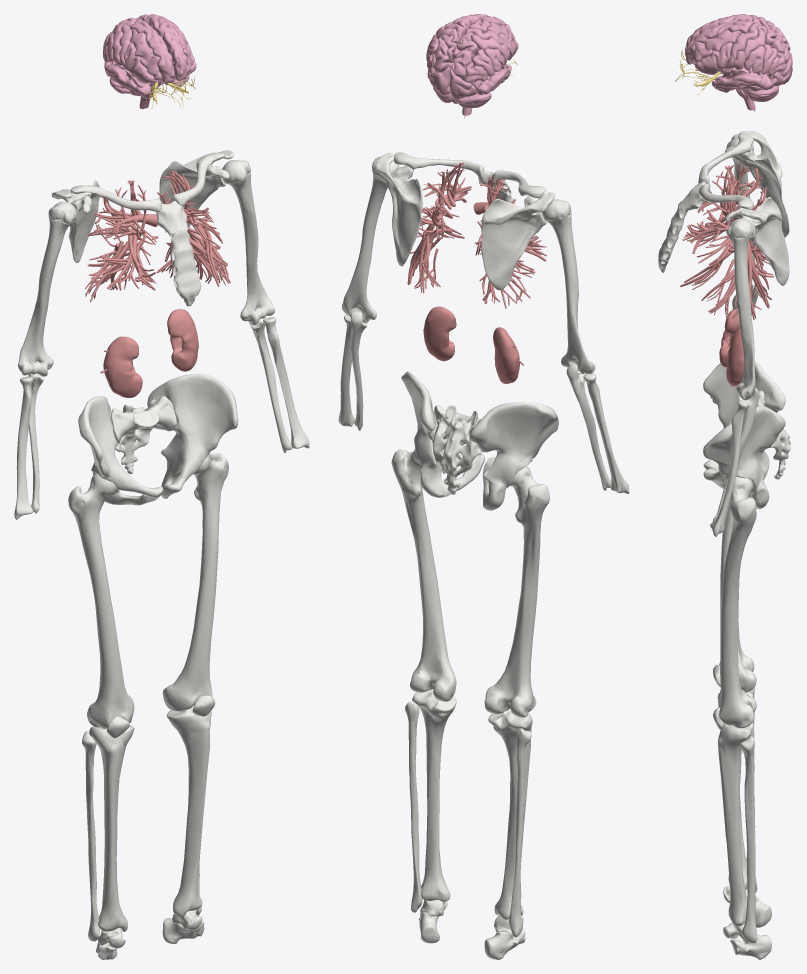
Rendered from bodyparts3d-skeleton-v1.glb.
3 renders of one model, left to right at view 1: azimuth 30°, elevation 25°; view 2: azimuth 150°, elevation 25°; view 3: azimuth 270°, elevation 25°, orthographic.
Visible parts, largest first — view 1: Femur_R, HipBone_L, Femur_L, Tibia_L, Lung_R, CerebralHemisphere_R, Tibia_R, HipBone_R, Humerus_R, Humerus_L, Lung_L, Sacrum (+14 smaller); view 2: Femur_R, Femur_L, HipBone_R, CerebralHemisphere_R, Scapula_R, Tibia_L, Lung_L, Tibia_R, HipBone_L, Humerus_R, Scapula_L, Sacrum (+13 smaller); view 3: CerebralHemisphere_L, Femur_L, Tibia_L, HipBone_L, Lung_L, Humerus_L, HipBone_R, Scapula_L, Fibula_L, Scapula_R, Lung_R, Radius_L (+14 smaller).
Boxes of the visible parts, x1=… form: Femur_R: x1=68, y1=473, x2=134, y2=728; HipBone_L: x1=147, y1=373, x2=238, y2=498; Femur_L: x1=162, y1=453, x2=228, y2=711; Tibia_L: x1=166, y1=705, x2=211, y2=917; Lung_R: x1=85, y1=180, x2=158, y2=373; CerebralHemisphere_R: x1=103, y1=17, x2=174, y2=96; Tibia_R: x1=89, y1=725, x2=134, y2=931; HipBone_R: x1=78, y1=396, x2=163, y2=505; Humerus_R: x1=18, y1=201, x2=76, y2=376; Humerus_L: x1=222, y1=160, x2=274, y2=325; Lung_L: x1=156, y1=170, x2=230, y2=286; Sacrum: x1=111, y1=396, x2=176, y2=473; Femur_R: x1=484, y1=466, x2=549, y2=717; Femur_L: x1=391, y1=449, x2=456, y2=701; HipBone_R: x1=469, y1=402, x2=558, y2=510; CerebralHemisphere_R: x1=449, y1=16, x2=518, y2=99; Scapula_R: x1=481, y1=192, x2=554, y2=290; Tibia_L: x1=412, y1=689, x2=456, y2=901; Lung_L: x1=407, y1=162, x2=471, y2=293; Tibia_R: x1=488, y1=709, x2=532, y2=919; HipBone_L: x1=401, y1=371, x2=484, y2=497; Humerus_R: x1=542, y1=199, x2=595, y2=373; Scapula_L: x1=375, y1=153, x2=422, y2=266; Sacrum: x1=432, y1=405, x2=481, y2=494; CerebralHemisphere_L: x1=685, y1=21, x2=792, y2=92; Femur_L: x1=719, y1=476, x2=756, y2=728; Tibia_L: x1=718, y1=723, x2=753, y2=926; HipBone_L: x1=703, y1=406, x2=785, y2=509; Lung_L: x1=680, y1=175, x2=774, y2=319; Humerus_L: x1=726, y1=218, x2=755, y2=400; HipBone_R: x1=703, y1=361, x2=785, y2=479; Scapula_L: x1=725, y1=197, x2=789, y2=285; Fibula_L: x1=739, y1=736, x2=757, y2=943; Scapula_R: x1=725, y1=131, x2=789, y2=237; Lung_R: x1=682, y1=163, x2=769, y2=275; Radius_L: x1=710, y1=400, x2=749, y2=536.
Size of the model in its own units: 0.5587 by 1.7 by 0.2242.
